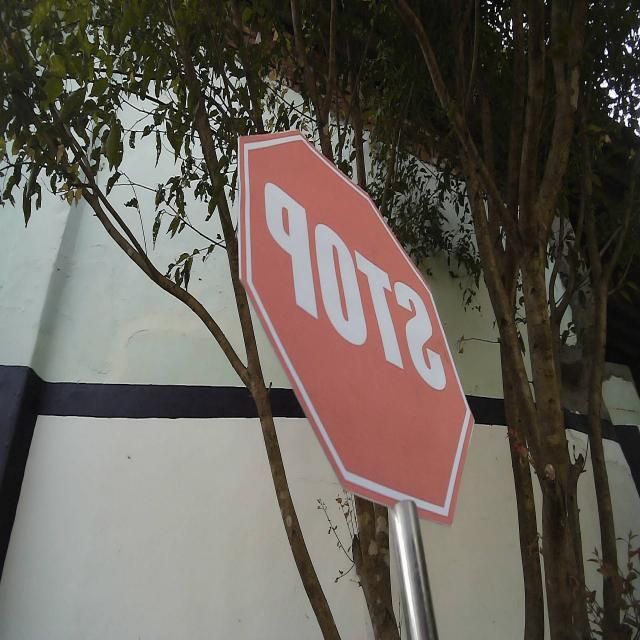stop: (235, 124, 478, 534)
